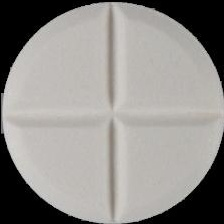51079-998: (0, 0, 224, 224)
